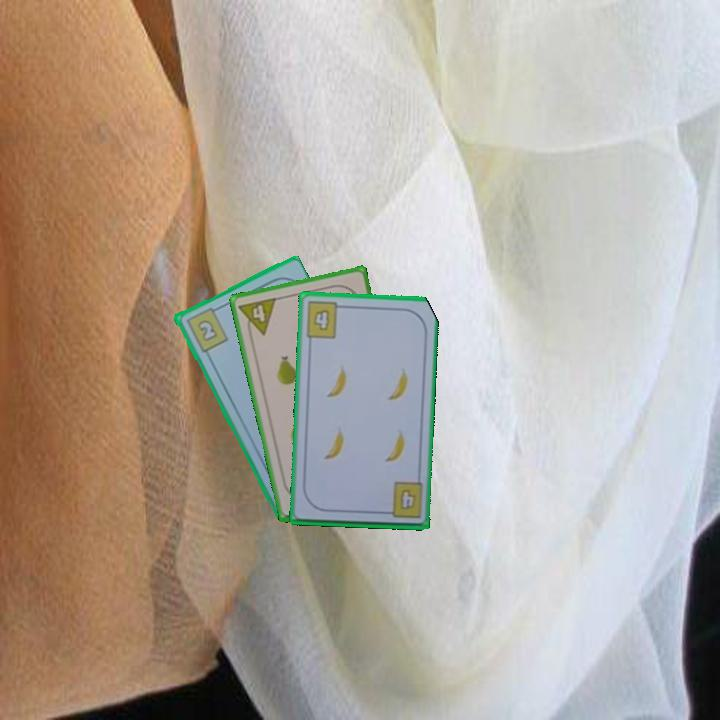2b: (182, 303, 230, 355)
4b: (302, 298, 347, 341), (380, 479, 425, 521)
4p: (235, 294, 279, 341)
